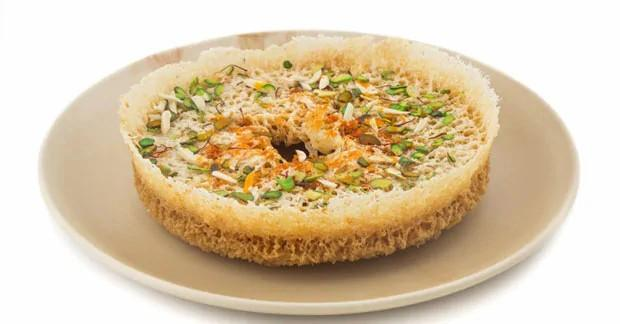Ghevar: (117, 34, 500, 268)
